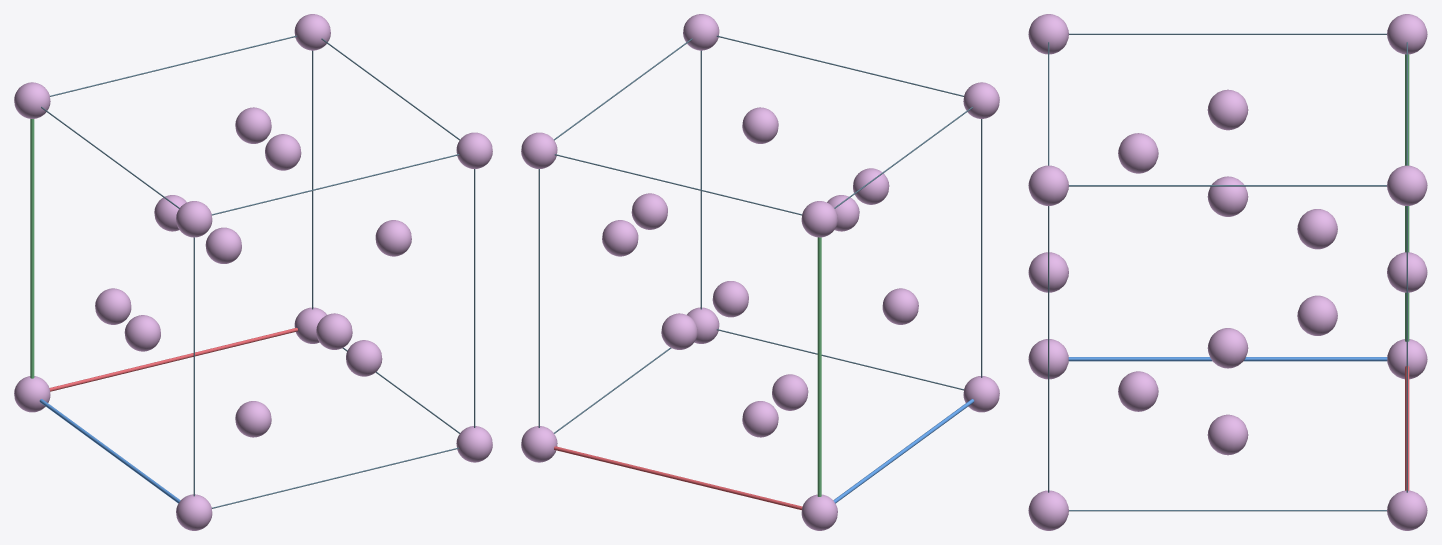
File: nguyen-to-ge.glb
3 renders of one model, left to right at view 1: azimuth 30°, elevation 25°; view 2: azimuth 150°, elevation 25°; view 3: azimuth 270°, elevation 25°, orthographic. The views are drawn at different scales.
Parts seen in each view (by area): view 1: Ge · Ge · 1 (×18), Ô mạng và các trục a, b, c; view 2: Ge · Ge · 1 (×18), Ô mạng và các trục a, b, c; view 3: Ge · Ge · 1 (×18), Ô mạng và các trục a, b, c.
Boxes of the visible parts, x1,y1,x2,y2 form: Ge · Ge · 1 (×18): (14, 14, 492, 530); Ô mạng và các trục a, b, c: (30, 35, 475, 508); Ge · Ge · 1 (×18): (521, 14, 999, 530); Ô mạng và các trục a, b, c: (538, 35, 982, 510); Ge · Ge · 1 (×18): (1028, 14, 1427, 530); Ô mạng và các trục a, b, c: (1048, 33, 1409, 511).
Size of the model in its own units: 6.3 by 6.3 by 6.3.
